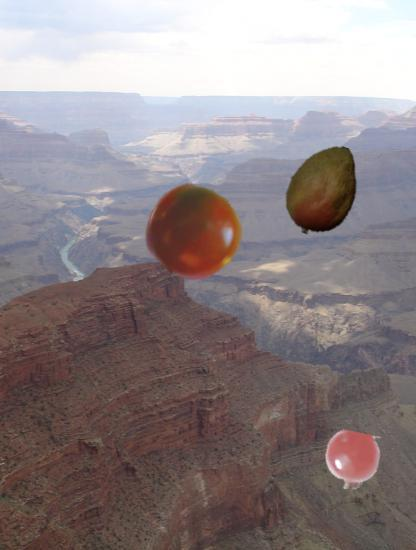Papaya: (275, 142, 371, 238)
Redcurrant: (323, 432, 381, 490)
Tomato: (145, 183, 244, 282)
